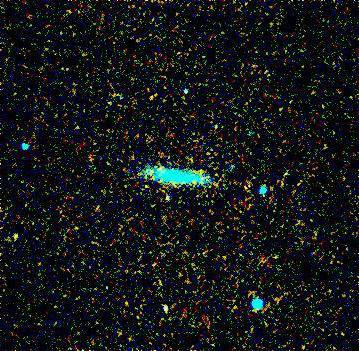star: (132, 173, 162, 203)
